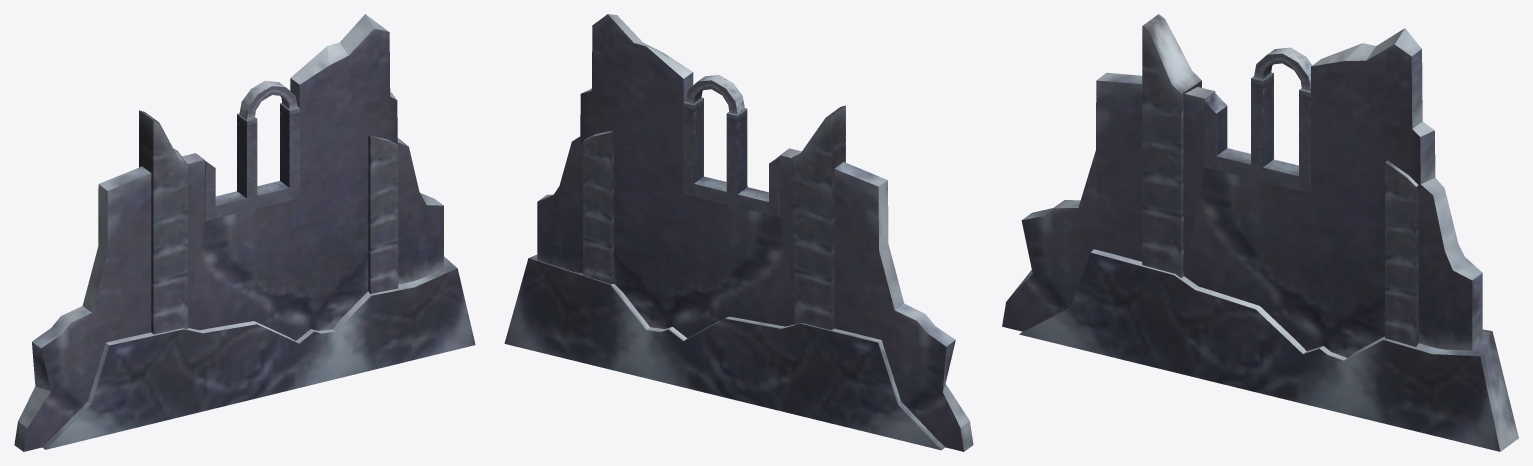
Rendered from yw_wanglingzhita_cuiqiang01.FBX.
3 views of the same model, side by side, from view 1: azimuth 30°, elevation 25°; view 2: azimuth 150°, elevation 25°; view 3: azimuth 330°, elevation 25° (orthographic). The views are drawn at different scales.
Parts seen in each view (by area): view 1: yw_wanglingzhita_cuiqiang01; view 2: yw_wanglingzhita_cuiqiang01; view 3: yw_wanglingzhita_cuiqiang01.
Boxes of the visible parts, x1,y1,x2,y2 form: yw_wanglingzhita_cuiqiang01: (14,14,475,451); yw_wanglingzhita_cuiqiang01: (504,14,973,451); yw_wanglingzhita_cuiqiang01: (1002,14,1518,451).
Size of the model in its own units: 587 by 432 by 37.79.
